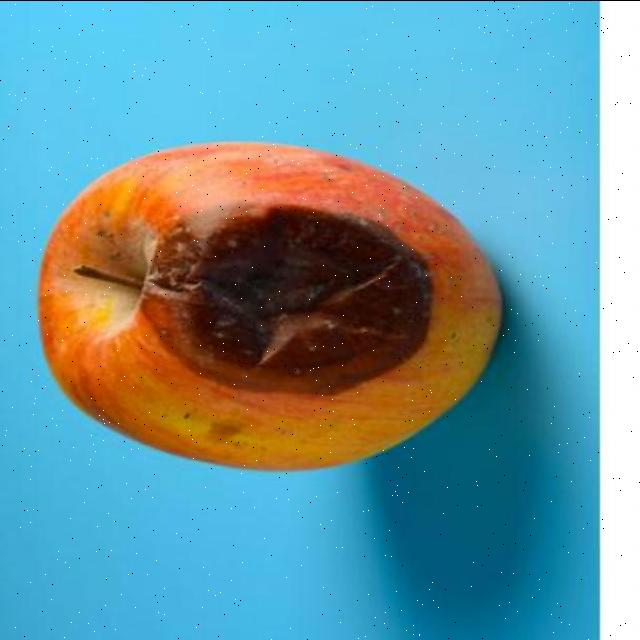ROT: (24, 112, 548, 494)
